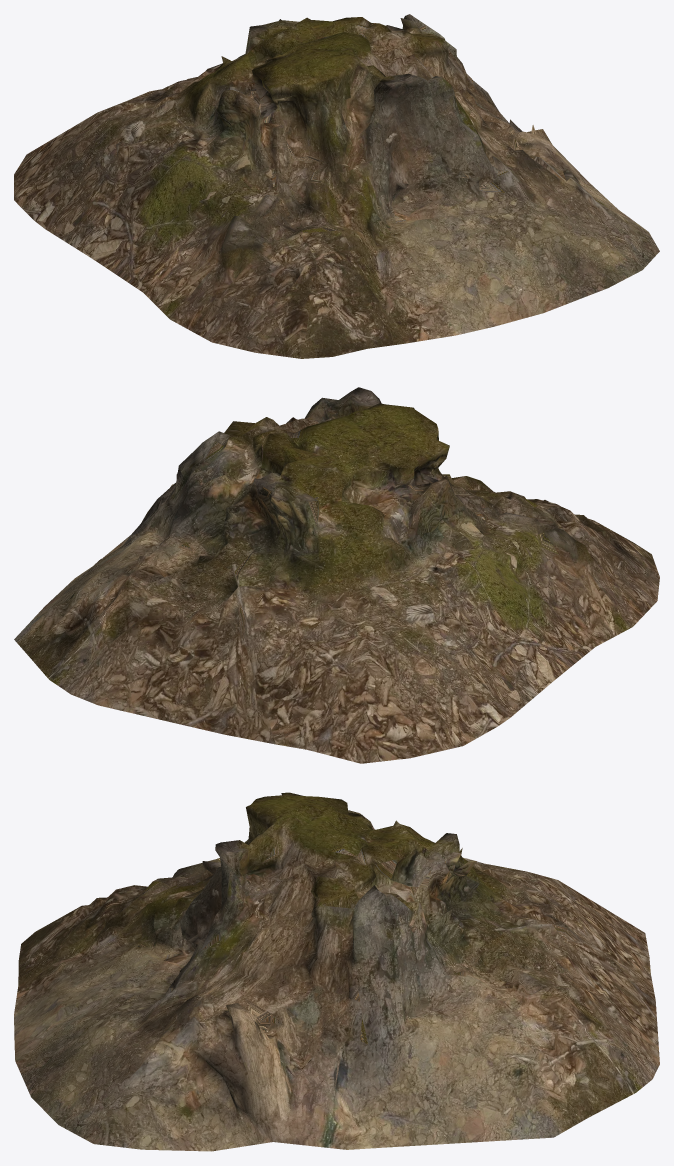
The model's file is tree_stump_01.glb.
The picture shows the model from 3 angles, top to bottom: view 1: azimuth 30°, elevation 25°; view 2: azimuth 150°, elevation 25°; view 3: azimuth 270°, elevation 25°; orthographic projection. The views are drawn at different scales.
Parts seen in each view (by area): view 1: tree_stump_01; view 2: tree_stump_01; view 3: tree_stump_01.
Part boxes in pixels (x1,y1,x2,y2): tree_stump_01: (14, 14, 659, 358); tree_stump_01: (14, 387, 659, 763); tree_stump_01: (14, 792, 659, 1151).
Size of the model in its own units: 1.43 by 0.571 by 1.59.
Materials: 1 (1 with a texture image).
